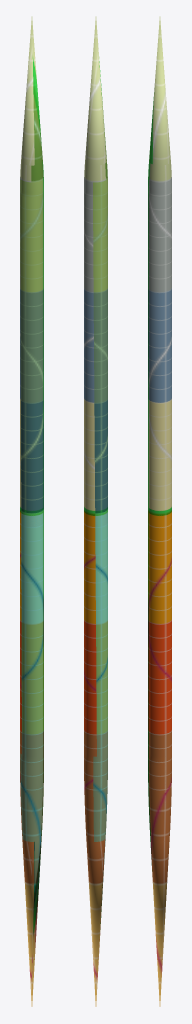
The model's file is Toothepick_Wrapped.fbx.
3 views of the same model, side by side, from view 1: azimuth 90°, elevation 25°; view 2: azimuth 150°, elevation 25°; view 3: azimuth 270°, elevation 25° (orthographic).
Visible parts, largest first — view 1: pCylinder1; view 2: pCylinder1; view 3: pCylinder1.
Boxes of the visible parts, <box> form: pCylinder1: <box>20,16,43,1006</box>; pCylinder1: <box>84,16,107,1006</box>; pCylinder1: <box>148,16,171,1006</box>.
Size of the model in its own units: 0.3382 by 15.3 by 0.3382.
Materials: 1 (1 with a texture image).
